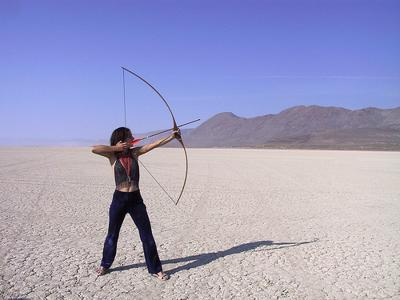person: (92, 126, 182, 282)
